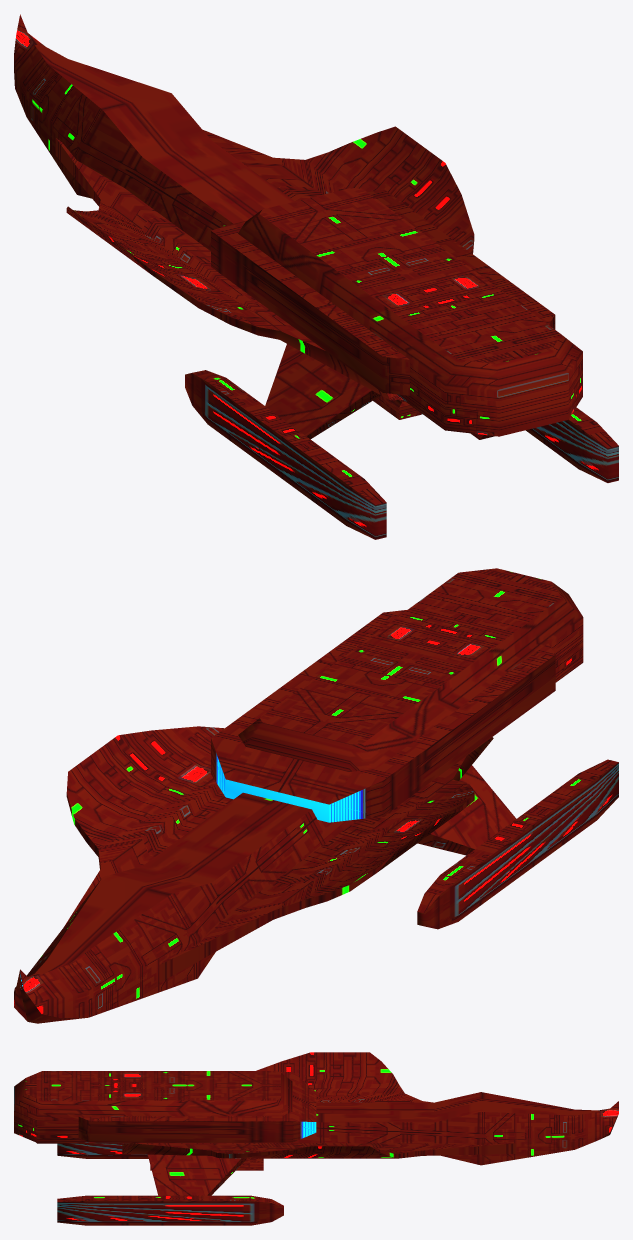
File: Vul_Aerak.fbx
3 renders of one model, top to bottom at view 1: azimuth 30°, elevation 25°; view 2: azimuth 150°, elevation 25°; view 3: azimuth 270°, elevation 25°, orthographic. The views are drawn at different scales.
Visible parts, largest first — view 1: Vul_Aerak; view 2: Vul_Aerak; view 3: Vul_Aerak.
Part boxes in pixels (bbox=[...]): Vul_Aerak: bbox=[14, 14, 618, 539]; Vul_Aerak: bbox=[14, 568, 618, 1023]; Vul_Aerak: bbox=[14, 1052, 618, 1225].
Size of the model in its own units: 143 by 73.52 by 388.
Materials: 1 (1 with a texture image).
